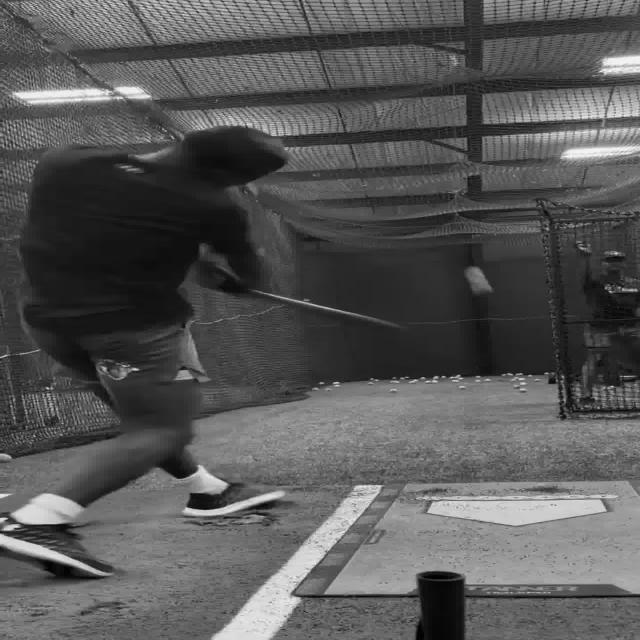base: (429, 496, 614, 525)
baseball: (463, 265, 493, 295)
bat: (251, 292, 405, 328)
shoe: (0, 510, 114, 578), (180, 482, 286, 517)
